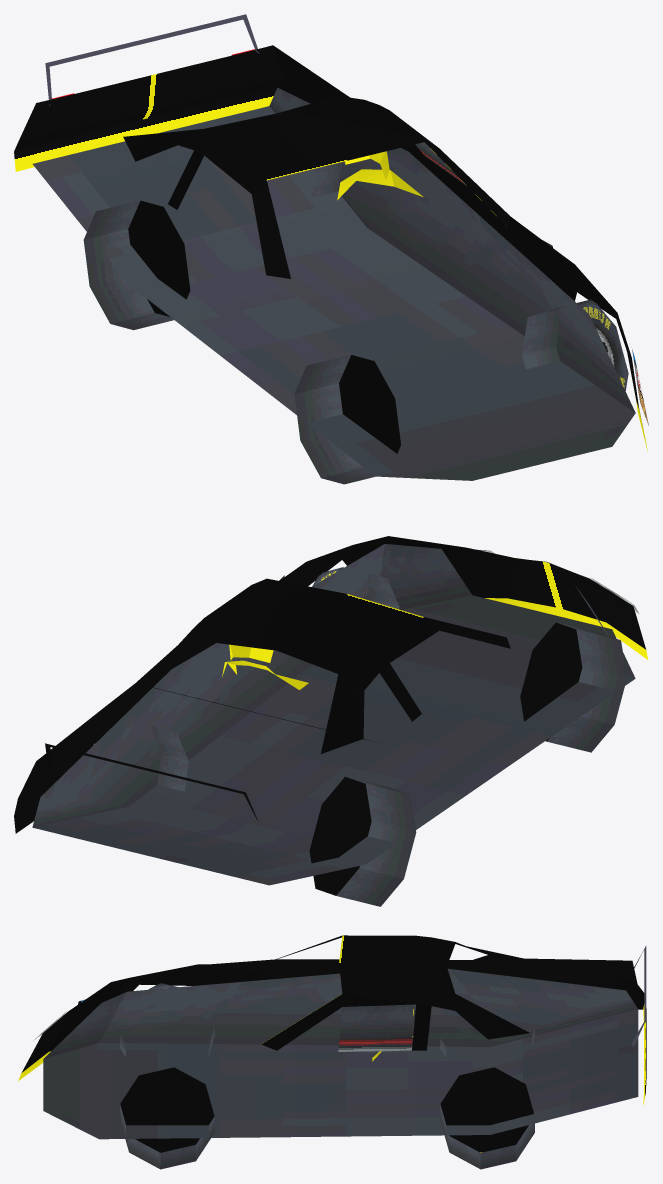
The model's file is ps2_save-icons_shorttrackracingtradingpaint.glb.
3 views of the same model, one above another, from view 1: azimuth 30°, elevation 25°; view 2: azimuth 150°, elevation 25°; view 3: azimuth 270°, elevation 25° (orthographic). The views are drawn at different scales.
Parts seen in each view (by area): view 1: icon.ico; view 2: icon.ico; view 3: icon.ico.
Part boxes in pixels (bbox=[...]): icon.ico: bbox=[14, 14, 648, 484]; icon.ico: bbox=[14, 536, 648, 906]; icon.ico: bbox=[18, 935, 646, 1169].
Bounding box in the file's own units: 1.27 × 0.8518 × 3.12.
Materials: 1 (1 with a texture image).
